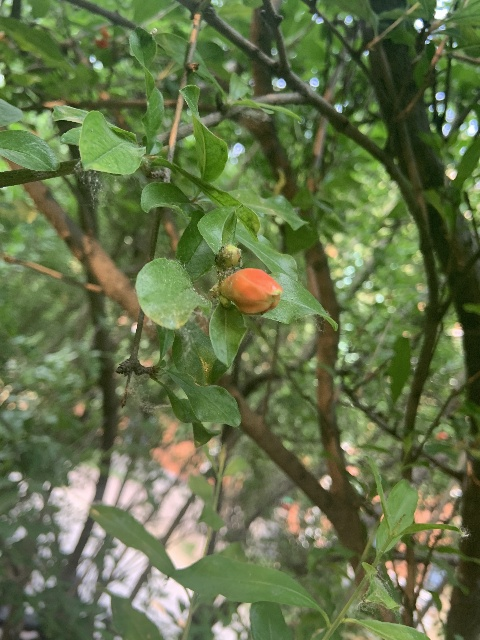bud: (221, 267, 283, 313)
